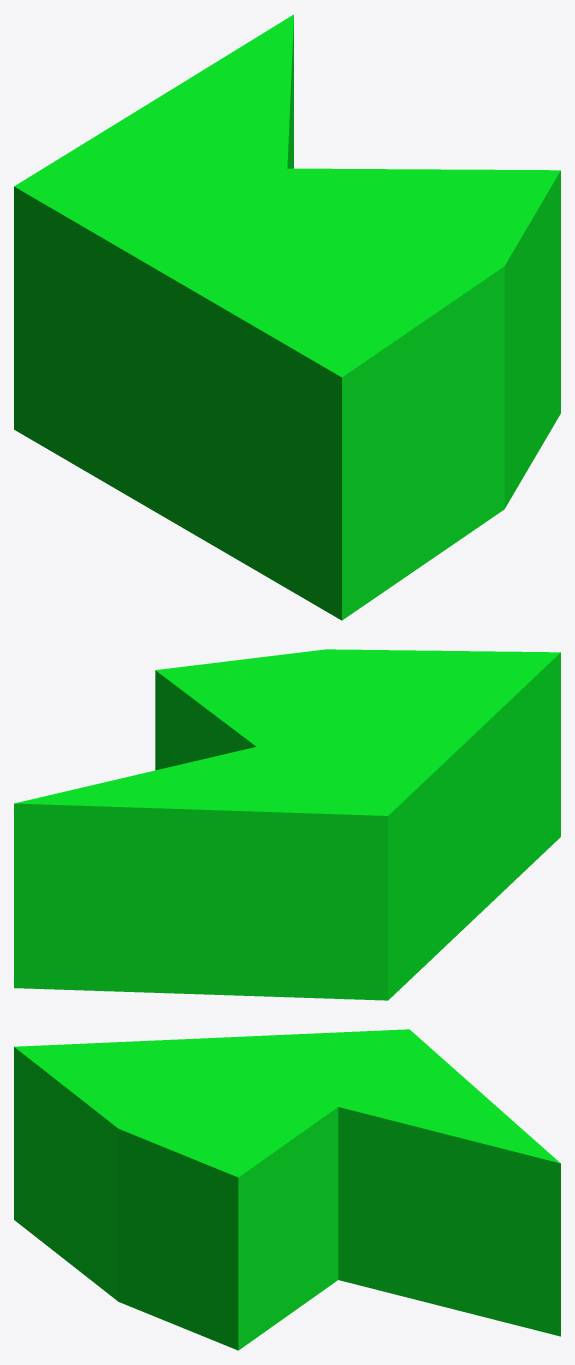
The model's file is ciervo5.glb.
The picture shows the model from 3 angles, top to bottom: view 1: azimuth 30°, elevation 25°; view 2: azimuth 150°, elevation 25°; view 3: azimuth 270°, elevation 25°; orthographic projection. The views are drawn at different scales.
Parts seen in each view (by area): view 1: ciervo5; view 2: ciervo5; view 3: ciervo5.
Part boxes in pixels (x1,y1,x2,y2): ciervo5: (14,14,560,620); ciervo5: (14,649,560,1000); ciervo5: (14,1029,560,1350).
Size of the model in its own units: 0.5258 by 0.2862 by 0.8196.
